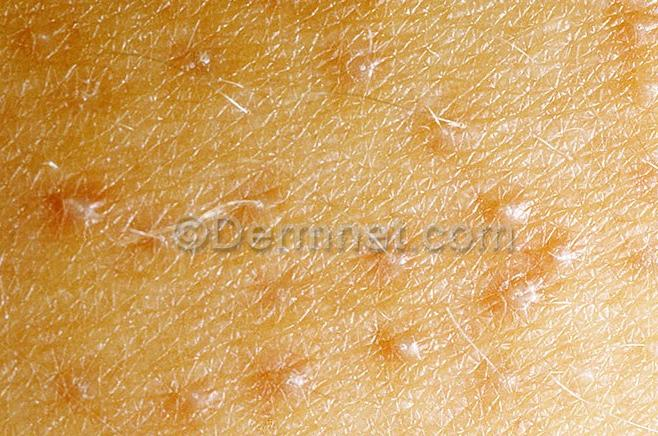edema 1: (3, 7, 658, 436)
